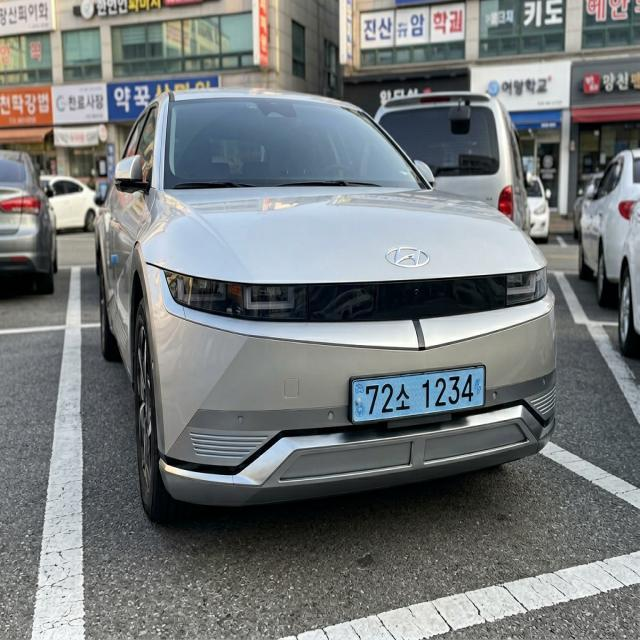car: (341, 359, 492, 438)
carev: (349, 378, 367, 426), (472, 363, 487, 417)
